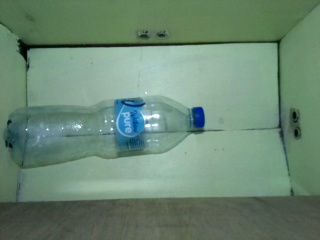bottle: (10, 95, 204, 169)
